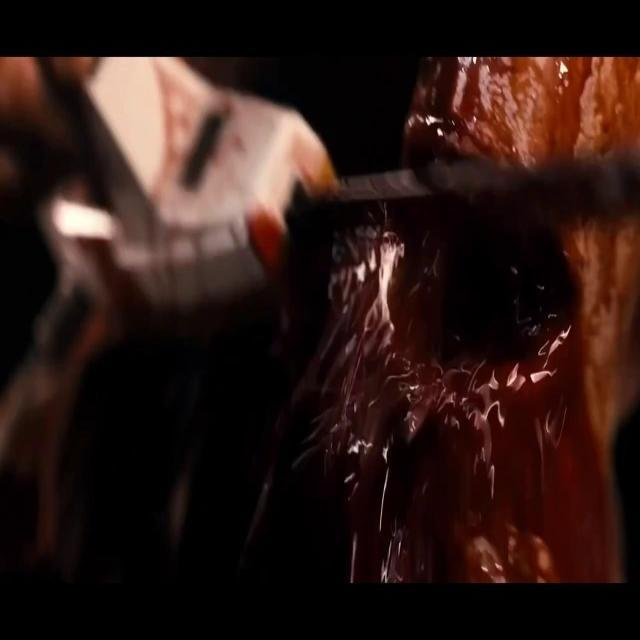flood: (314, 81, 602, 585)
